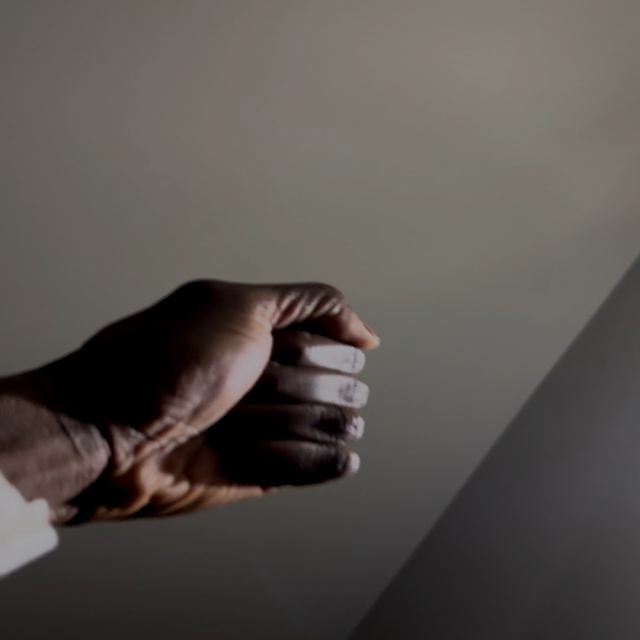Rock: (28, 275, 379, 529)
